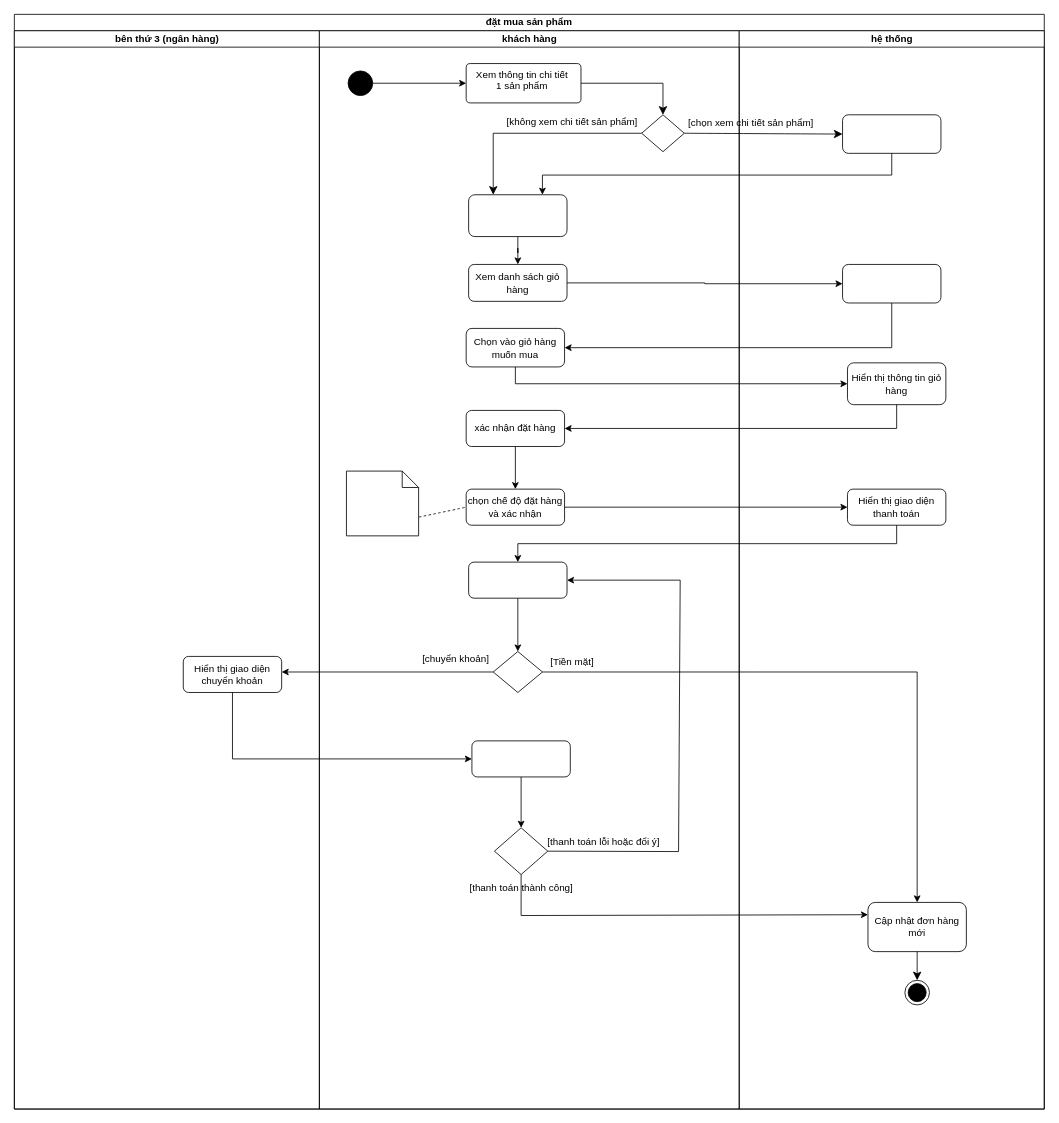
This 1059x1123 diagram has some shape labels left out. Each missing label, with the centre of its shape:
"1: gọi tại bàn 2: gọi mang về 3: đặt về nhà" goes at (382,503).
"Chọn thương thức thanh toán" goes at (517,579).
"Hiển thị danh sách giỏ hàng" goes at (891,283).
"Hiển thị thông tin chi tiết sản phẩm" goes at (891,133).
"Thêm sản phẩm vào giỏ hàng" goes at (517,215).
"Thực hiện thanh toán" goes at (520,758).
